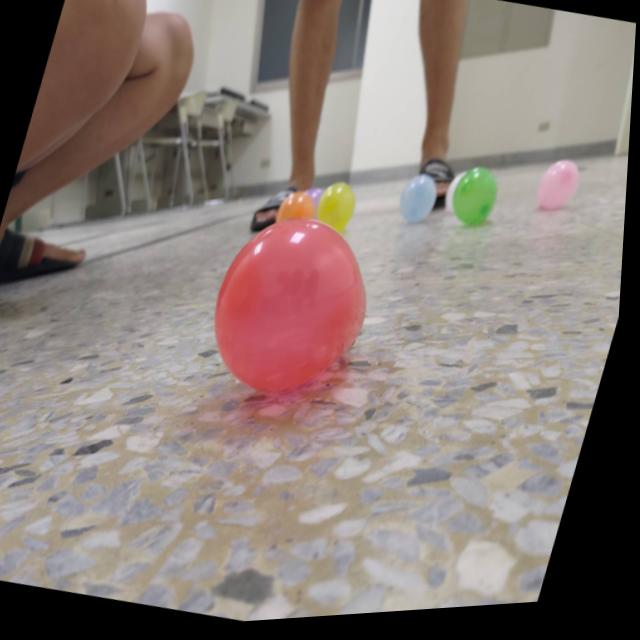other: (448, 167, 507, 237), (534, 160, 585, 221), (397, 173, 445, 231), (315, 180, 363, 237), (275, 192, 323, 239)
red: (196, 202, 394, 416)
